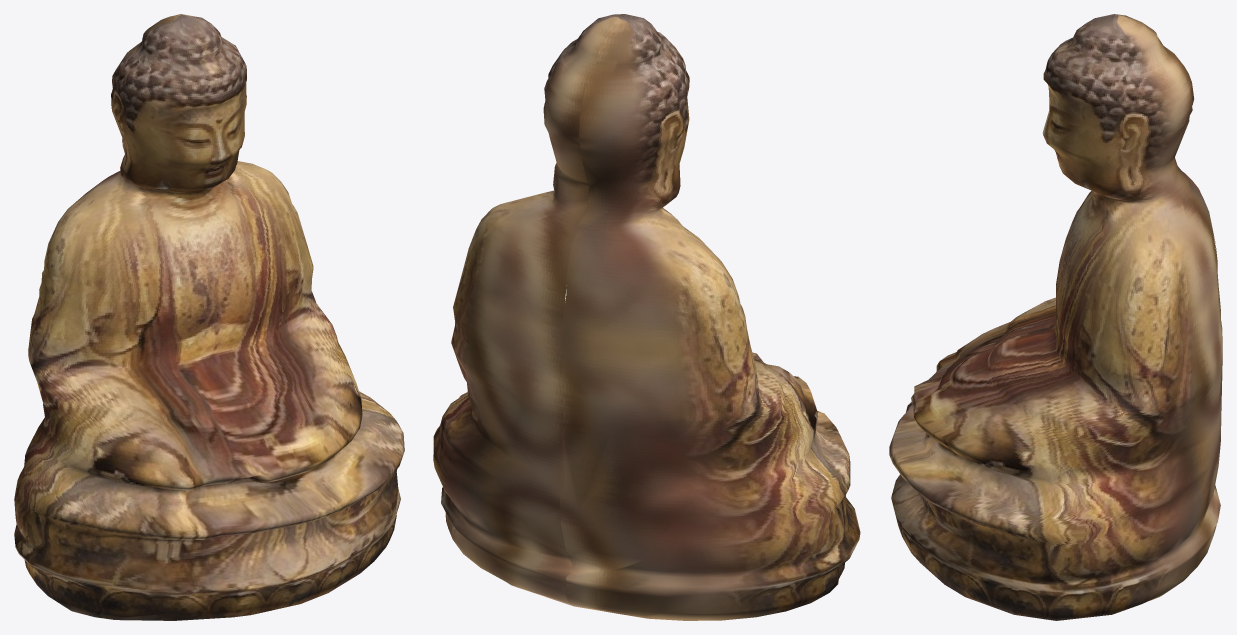
Rendered from seven-5.glb.
3 renders of one model, left to right at view 1: azimuth 30°, elevation 25°; view 2: azimuth 150°, elevation 25°; view 3: azimuth 270°, elevation 25°, orthographic. The views are drawn at different scales.
Parts seen in each view (by area): view 1: seven-5; view 2: seven-5; view 3: seven-5.
Part boxes in pixels (x1,y1,x2,y2): seven-5: [14, 14, 404, 620]; seven-5: [433, 14, 860, 620]; seven-5: [889, 14, 1222, 620].
Bounding box in the file's own units: 0.7312 × 1 × 0.5714.
Materials: 1 (1 with a texture image).
